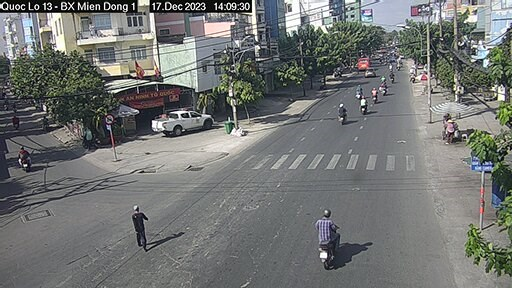car: (150, 109, 215, 136), (364, 68, 374, 77)
motorbike: (319, 208, 337, 269), (15, 145, 33, 172), (357, 94, 369, 115), (336, 103, 347, 125), (353, 84, 364, 100), (370, 90, 379, 104)
